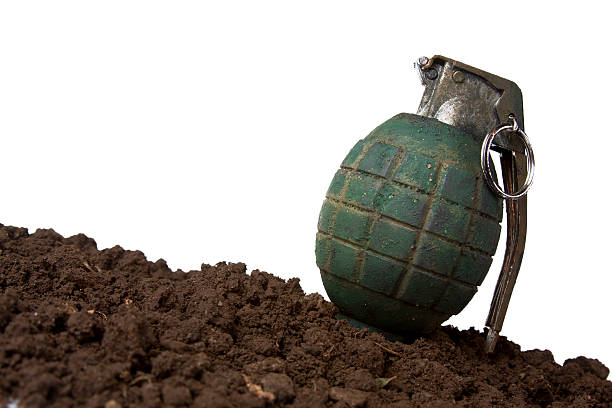e1: (314, 53, 540, 353)
